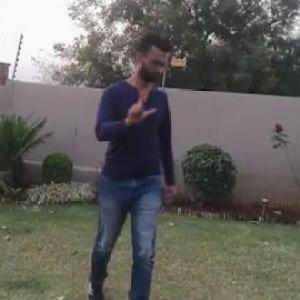land_hand: (124, 85, 160, 124)
